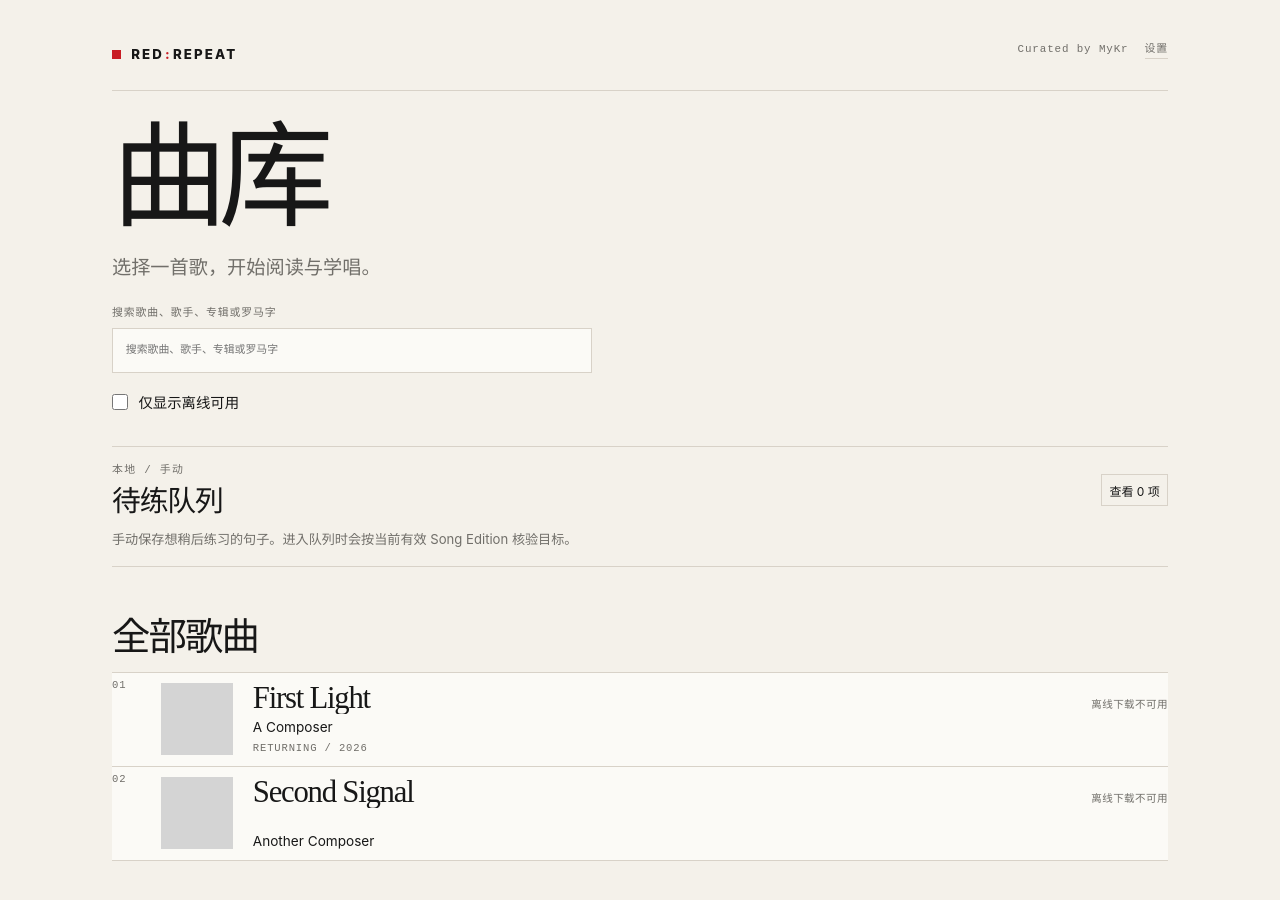
App Library consumer › reports unavailable offline verification and disables downloads without Cache Storage
Click the checkbox labelled "仅显示离线可用".
click(120, 402)  # box [112, 394, 128, 410]
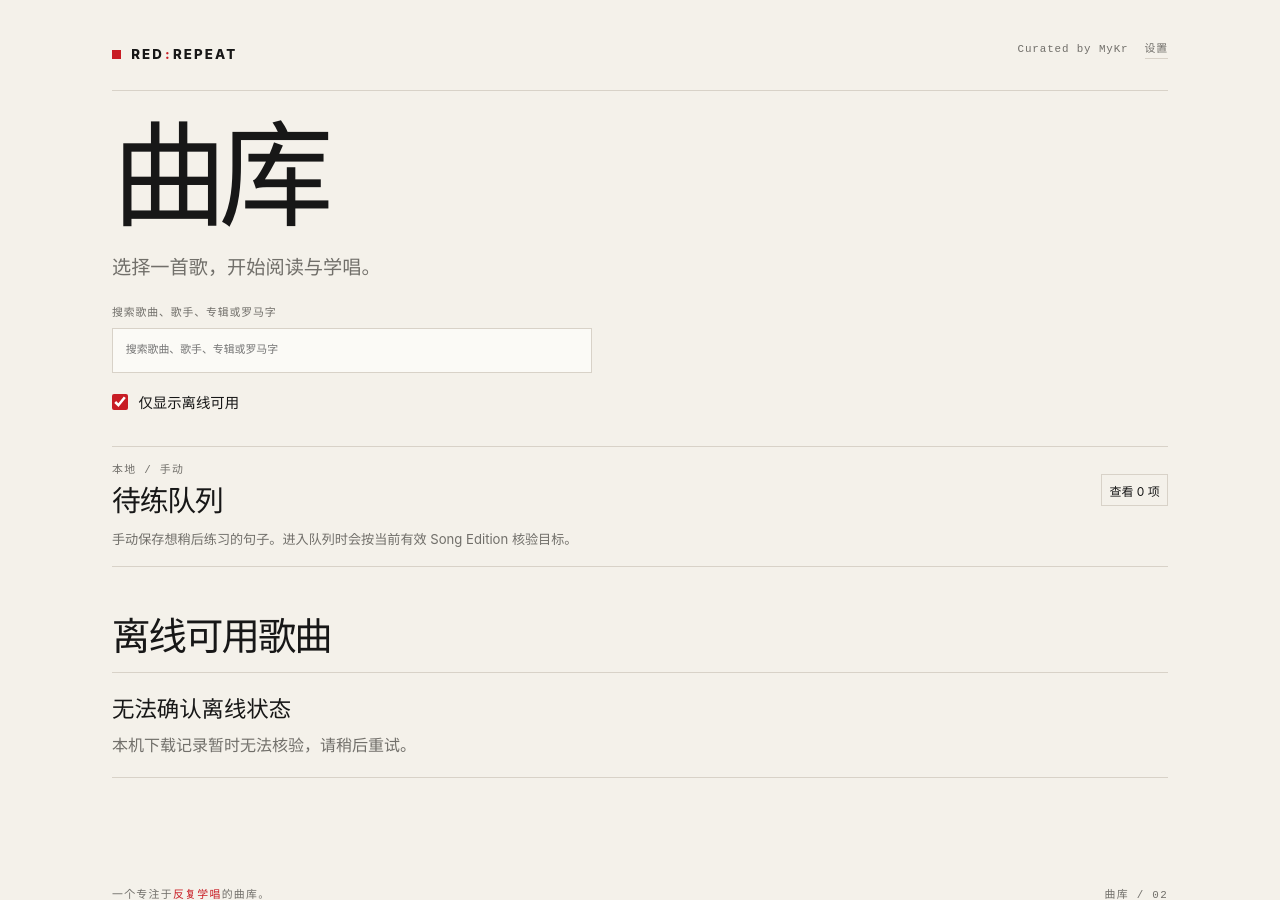
Expected: the text "无法确认离线状态" is shown, [112, 697, 291, 722]
Click the checkbox labelled "仅显示离线可用".
click(120, 402)  # box [112, 394, 128, 410]
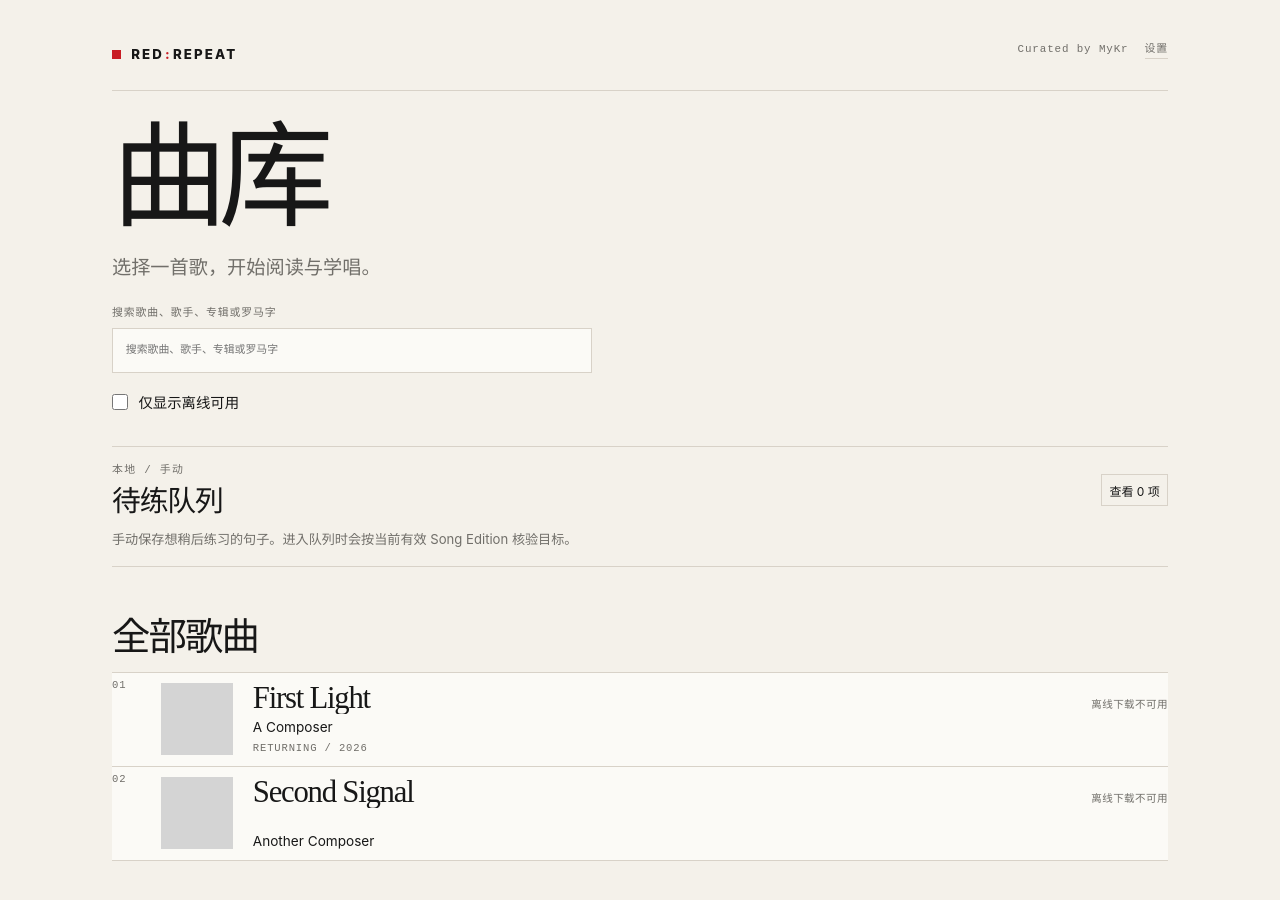
Expected: the text "离线下载不可用" in the row of "First Light" is shown, [1091, 699, 1168, 711]
